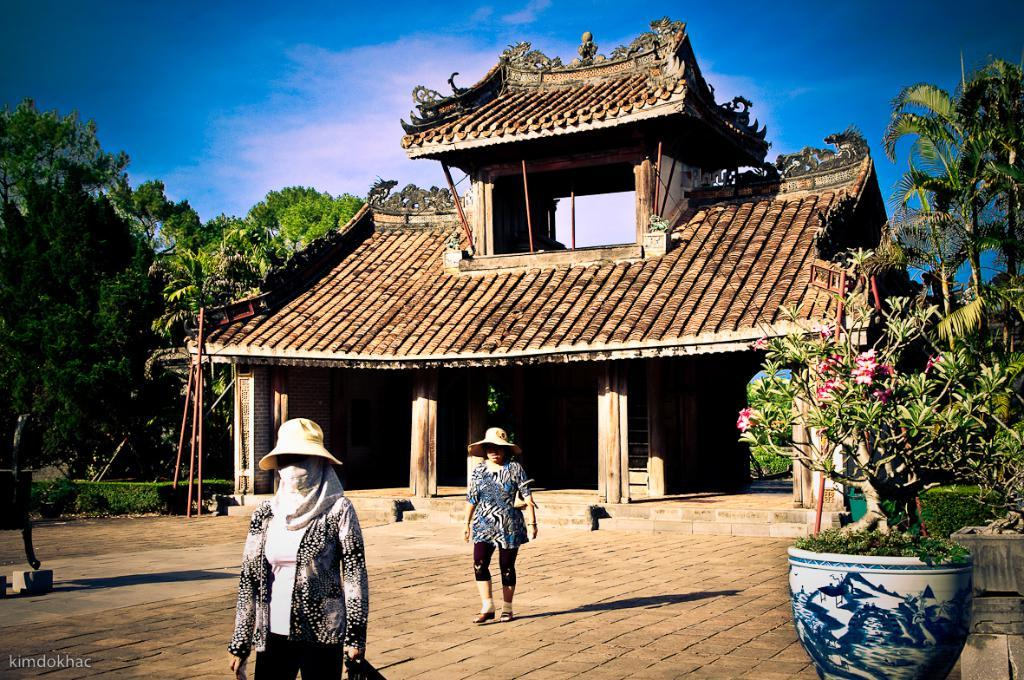Hat: (264, 416, 342, 468), (468, 425, 516, 455)
